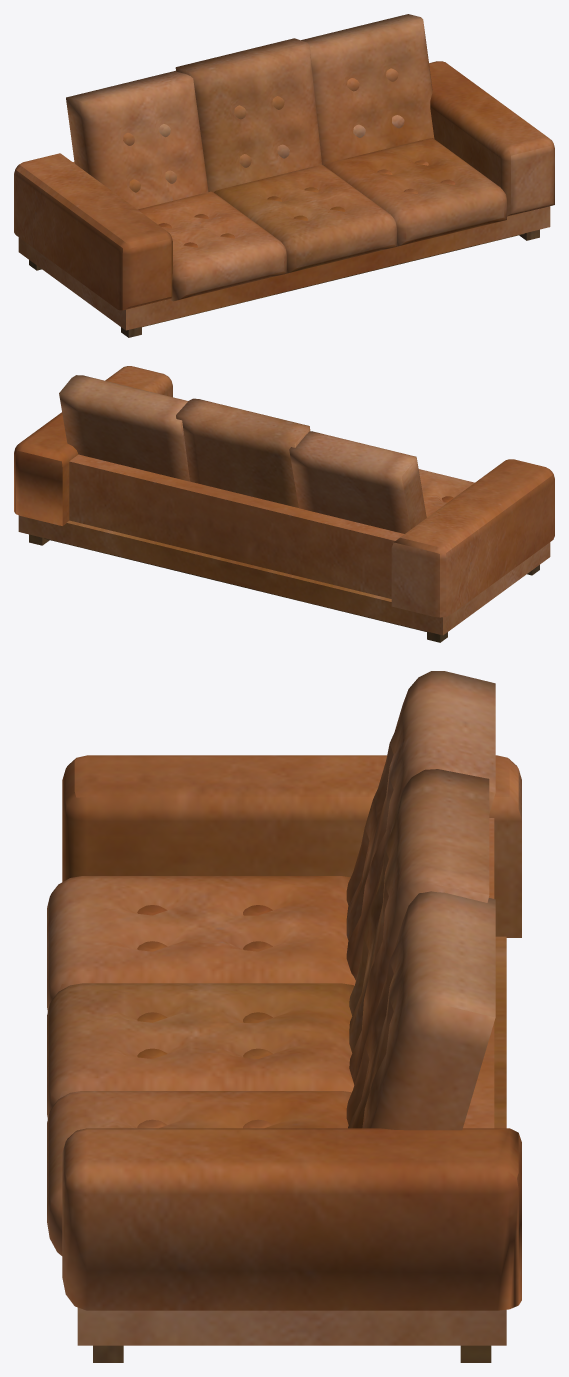
File: sofa1.obj
3 views of the same model, one above another, from view 1: azimuth 30°, elevation 25°; view 2: azimuth 150°, elevation 25°; view 3: azimuth 270°, elevation 25° (orthographic). The views are drawn at different scales.
Visible parts, largest first — view 1: Sofa3Lug; view 2: Sofa3Lug; view 3: Sofa3Lug.
Boxes of the visible parts, <box> form: Sofa3Lug: <box>14,14,554,337</box>; Sofa3Lug: <box>14,366,554,642</box>; Sofa3Lug: <box>47,671,521,1362</box>.
Size of the model in its own units: 3.28 by 1.21 by 1.55.
